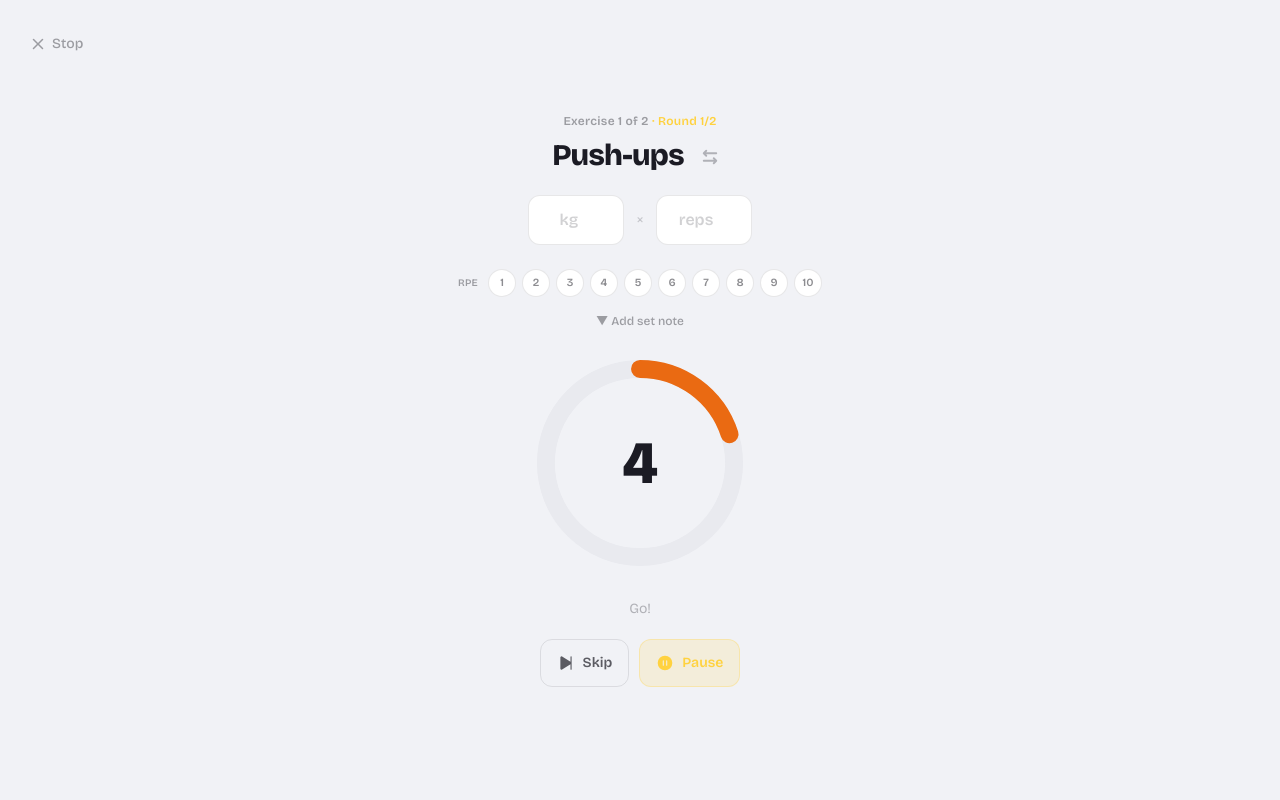
Test: WorkoutRunner › navigates back to the previous exercise when undoing after advancing
# Log a set on exercise 0 (Push-ups).
Step 1. Type "80" into the number field named "Weight in kg" → (576, 220), box [528,195,624,245]
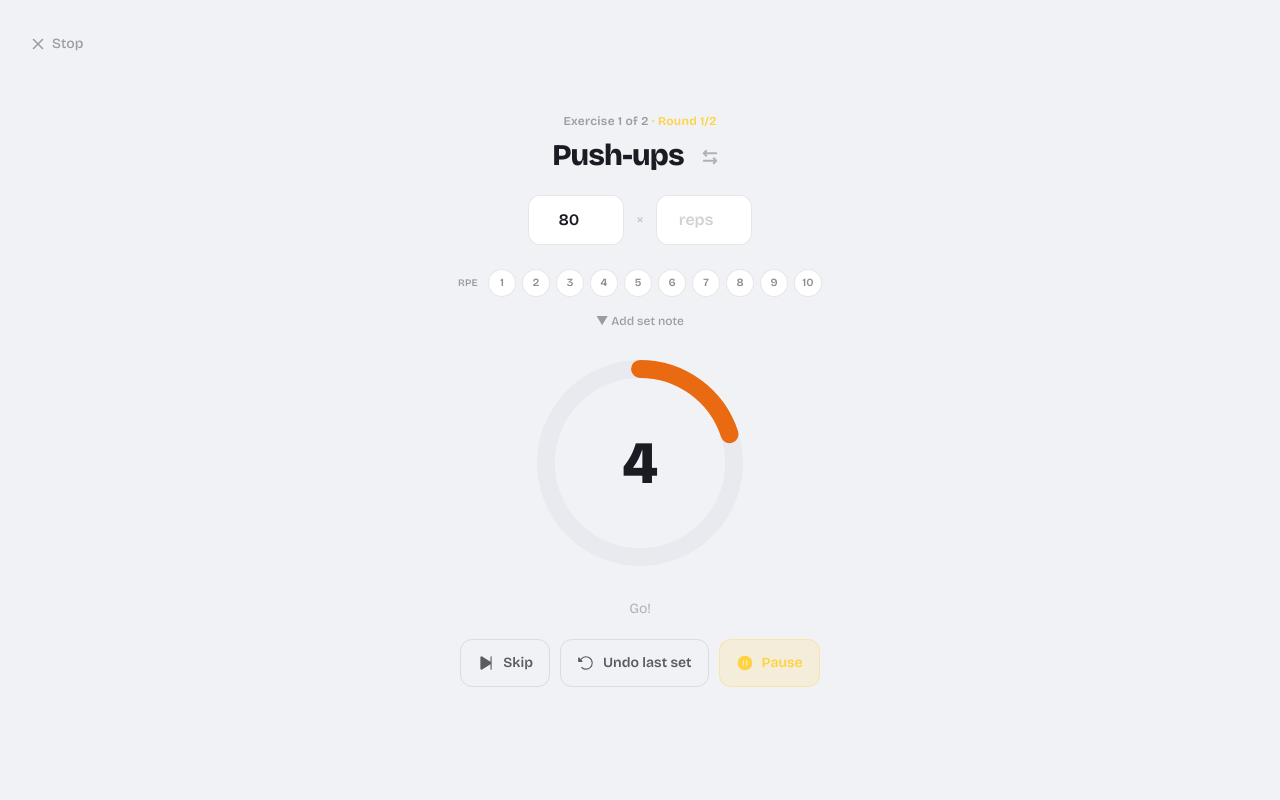
Step 2. Click the button "Skip" → (505, 663), box [460,639,550,687]
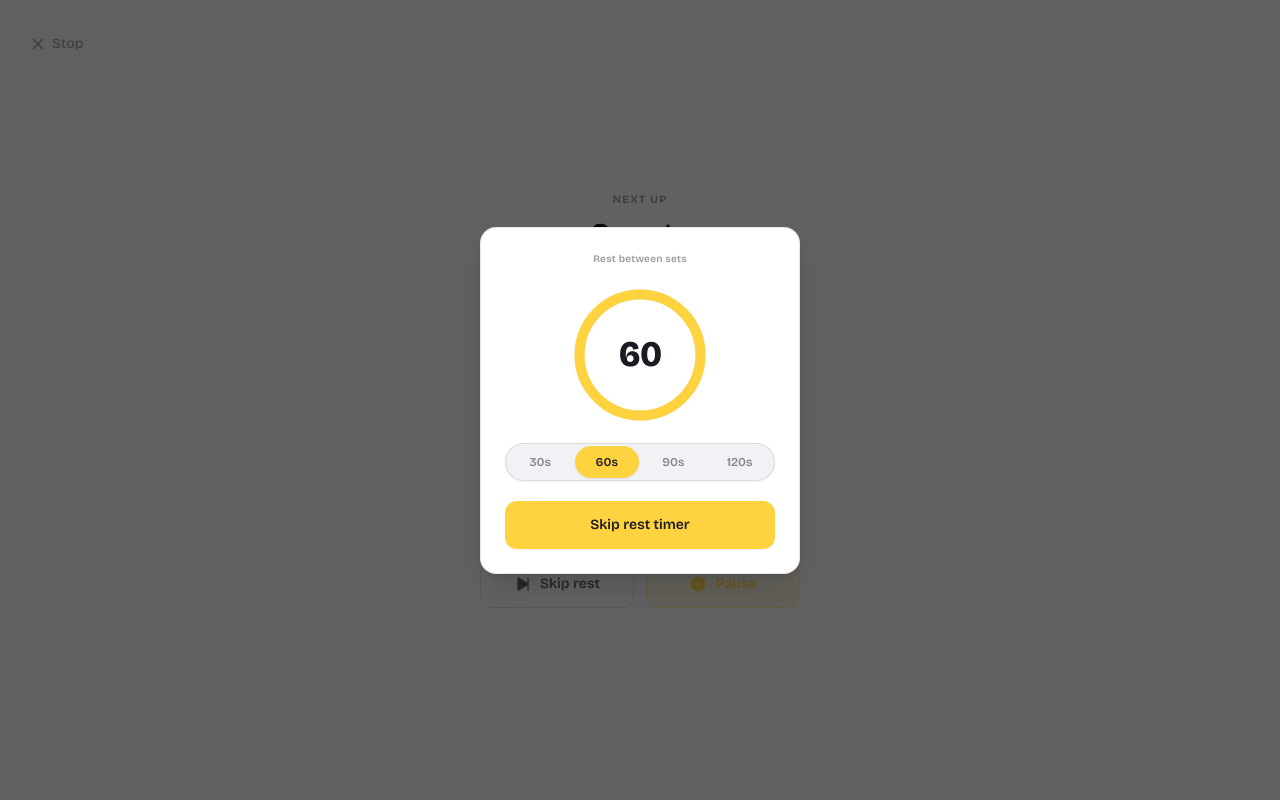
Step 3. Click the button "Skip rest" → (557, 584), box [480,560,634,608]
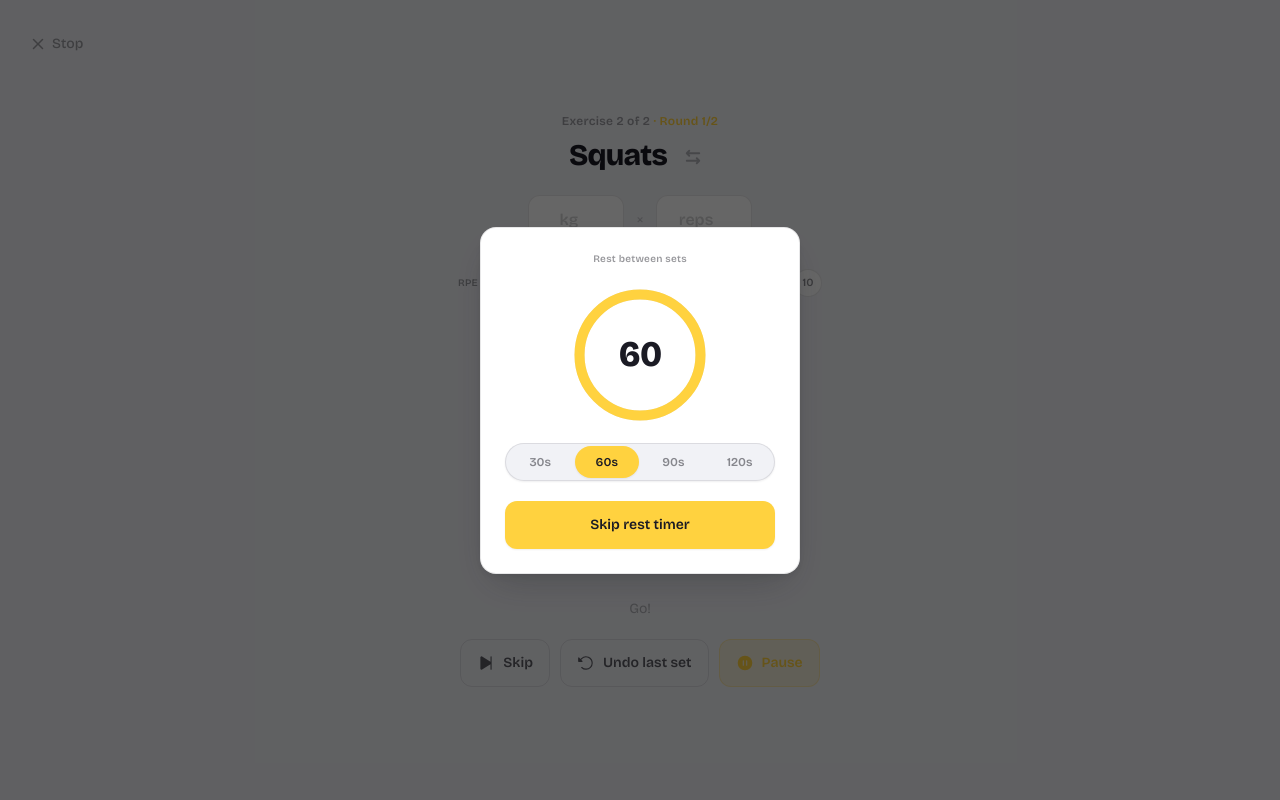
Expected: the heading "Squats" is shown, [569,137,711,175]
# Undo pops back to the exercise whose set we just logged.
Step 4. Click the button "Undo last set" → (634, 663), box [560,639,709,687]
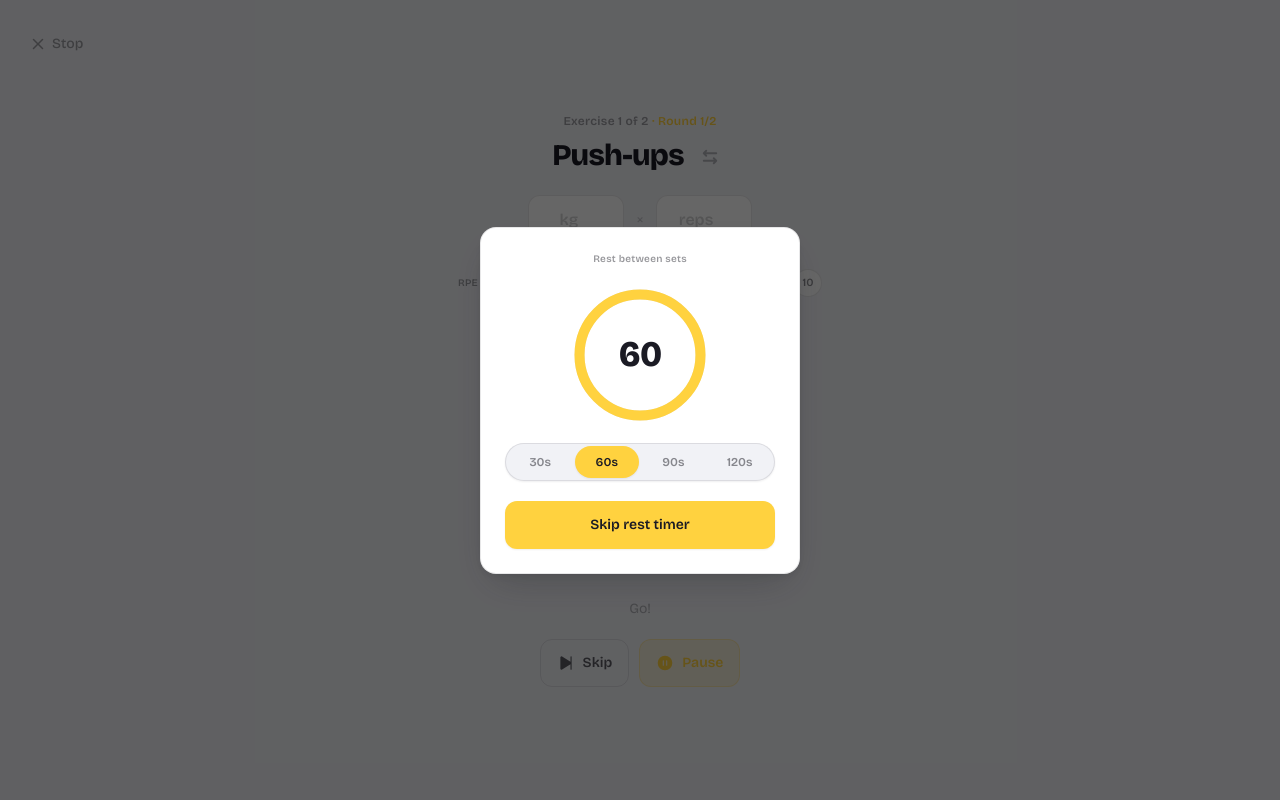
Expected: the number field named "Weight in kg" is empty, [528,195,624,245]
Expected: the heading "Push-ups" is shown, [552,137,728,175]
